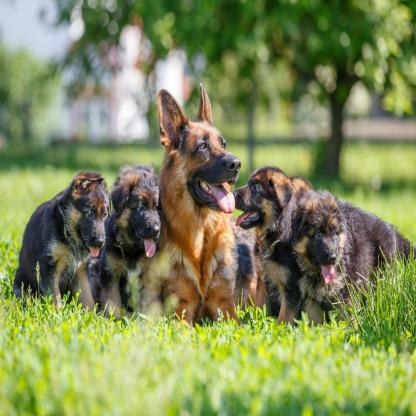german shepherd: (155, 84, 265, 332), (284, 198, 412, 320), (14, 174, 110, 316), (238, 164, 315, 325), (92, 162, 160, 325)
